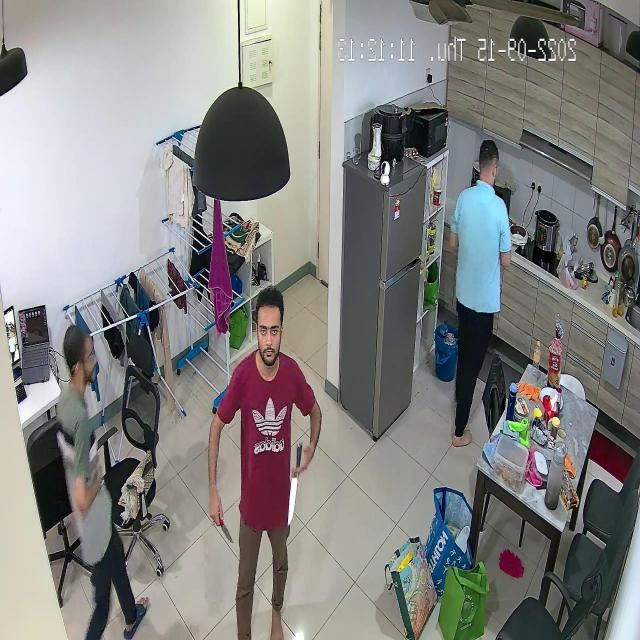Knife: (276, 438, 311, 538), (208, 506, 240, 550)
